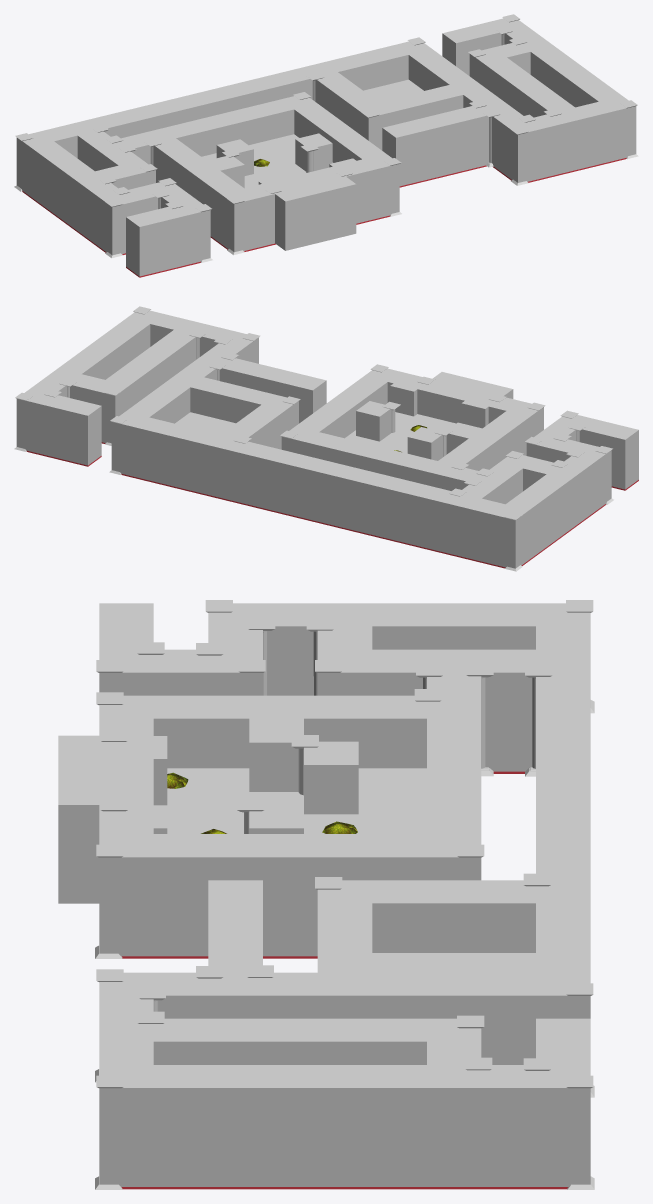
The model's file is montage_map.fbx.
3 renders of one model, top to bottom at view 1: azimuth 30°, elevation 25°; view 2: azimuth 150°, elevation 25°; view 3: azimuth 270°, elevation 25°, orthographic. The views are drawn at different scales.
Visible parts, largest first — view 1: dead_end.001|box.011_L_map_asset.blend.001|Dupli|1, top_corner.005|box.003_L_map_asset.blend.001|Dupli|, dead_end.002|box.011_L_map_asset.blend.001|Dupli|1, dead_end.004|box.011_L_map_asset.blend.001|Dupli|1, wall.218|box_L_map_asset.blend.001|Dupli|, outer_corner_top.009|box.010_L_map_asset.blend.001|Dupli|, top_corner.009|box.003_L_map_asset.blend.001|Dupli|, outer_corner_top.018|box.010_L_map_asset.blend.001|Dupli|, dead_end|box.011_L_map_asset.blend.001|Dupli|1, wall.174|box_L_map_asset.blend.001|Dupli|, outer_corner_top.004|box.010_L_map_asset.blend.001|Dupli|, wall.172|box_L_map_asset.blend.001|Dupli| (+99 smaller); view 2: dead_end.004|box.011_L_map_asset.blend.001|Dupli|1, outer_corner_top.018|box.010_L_map_asset.blend.001|Dupli|, top_corner.003|box.003_L_map_asset.blend.001|Dupli|, dead_end.001|box.011_L_map_asset.blend.001|Dupli|1, dead_end.002|box.011_L_map_asset.blend.001|Dupli|1, top_corner.010|box.003_L_map_asset.blend.001|Dupli|, outer_corner_top.016|box.010_L_map_asset.blend.001|Dupli|, dead_end.005|box.011_L_map_asset.blend.001|Dupli|1, wall.210|box_L_map_asset.blend.001|Dupli|, wall.153|box_L_map_asset.blend.001|Dupli|, wall.161|box_L_map_asset.blend.001|Dupli|, wall.155|box_L_map_asset.blend.001|Dupli| (+106 smaller); view 3: wall.147|box_L_map_asset.blend.001|Dupli|, wall.143|box_L_map_asset.blend.001|Dupli|, wall.037|box_L_map_asset.blend.001|Dupli|, wall.049|box_L_map_asset.blend.001|Dupli|, wall.144|box_L_map_asset.blend.001|Dupli|, wall.145|box_L_map_asset.blend.001|Dupli|, wall.028|box_L_map_asset.blend.001|Dupli|, outer_corner_top.016|box.010_L_map_asset.blend.001|Dupli|, wall.139|box_L_map_asset.blend.001|Dupli|, wall.052|box_L_map_asset.blend.001|Dupli|, wall.146|box_L_map_asset.blend.001|Dupli|, wall.123|box_L_map_asset.blend.001|Dupli| (+154 smaller).
Part boxes in pixels (left/top/right/bottom): dead_end.001|box.011_L_map_asset.blend.001|Dupli|1: left=126, top=211, right=163, bottom=251; top_corner.005|box.003_L_map_asset.blend.001|Dupli|: left=220, top=188, right=257, bottom=228; dead_end.002|box.011_L_map_asset.blend.001|Dupli|1: left=382, top=122, right=419, bottom=161; dead_end.004|box.011_L_map_asset.blend.001|Dupli|1: left=442, top=28, right=479, bottom=67; wall.218|box_L_map_asset.blend.001|Dupli|: left=275, top=188, right=308, bottom=225; outer_corner_top.009|box.010_L_map_asset.blend.001|Dupli|: left=98, top=193, right=135, bottom=231; top_corner.009|box.003_L_map_asset.blend.001|Dupli|: left=355, top=102, right=392, bottom=141; outer_corner_top.018|box.010_L_map_asset.blend.001|Dupli|: left=295, top=133, right=332, bottom=171; dead_end|box.011_L_map_asset.blend.001|Dupli|1: left=126, top=242, right=163, bottom=276; wall.174|box_L_map_asset.blend.001|Dupli|: left=257, top=99, right=294, bottom=139; outer_corner_top.004|box.010_L_map_asset.blend.001|Dupli|: left=504, top=121, right=541, bottom=159; wall.172|box_L_map_asset.blend.001|Dupli|: left=234, top=105, right=270, bottom=145; dead_end.004|box.011_L_map_asset.blend.001|Dupli|1: left=64, top=400, right=101, bottom=440; outer_corner_top.018|box.010_L_map_asset.blend.001|Dupli|: left=356, top=401, right=391, bottom=441; top_corner.003|box.003_L_map_asset.blend.001|Dupli|: left=492, top=504, right=529, bottom=544; dead_end.001|box.011_L_map_asset.blend.001|Dupli|1: left=601, top=424, right=638, bottom=464; dead_end.002|box.011_L_map_asset.blend.001|Dupli|1: left=289, top=375, right=326, bottom=414; top_corner.010|box.003_L_map_asset.blend.001|Dupli|: left=91, top=380, right=129, bottom=419; outer_corner_top.016|box.010_L_map_asset.blend.001|Dupli|: left=407, top=427, right=443, bottom=460; dead_end.005|box.011_L_map_asset.blend.001|Dupli|1: left=64, top=431, right=101, bottom=465; wall.210|box_L_map_asset.blend.001|Dupli|: left=190, top=377, right=227, bottom=417; wall.153|box_L_map_asset.blend.001|Dupli|: left=135, top=417, right=172, bottom=457; wall.161|box_L_map_asset.blend.001|Dupli|: left=325, top=464, right=362, bottom=504; wall.155|box_L_map_asset.blend.001|Dupli|: left=183, top=429, right=220, bottom=469; wall.147|box_L_map_asset.blend.001|Dupli|: left=317, top=1065, right=372, bottom=1137; wall.143|box_L_map_asset.blend.001|Dupli|: left=153, top=1065, right=208, bottom=1137; wall.037|box_L_map_asset.blend.001|Dupli|: left=372, top=880, right=426, bottom=952; wall.049|box_L_map_asset.blend.001|Dupli|: left=427, top=880, right=481, bottom=952; wall.144|box_L_map_asset.blend.001|Dupli|: left=263, top=1065, right=317, bottom=1137; wall.145|box_L_map_asset.blend.001|Dupli|: left=208, top=1065, right=262, bottom=1137; wall.028|box_L_map_asset.blend.001|Dupli|: left=372, top=695, right=426, bottom=768; outer_corner_top.016|box.010_L_map_asset.blend.001|Dupli|: left=304, top=741, right=358, bottom=814; wall.139|box_L_map_asset.blend.001|Dupli|: left=481, top=972, right=535, bottom=1044; wall.052|box_L_map_asset.blend.001|Dupli|: left=481, top=880, right=535, bottom=952; wall.146|box_L_map_asset.blend.001|Dupli|: left=372, top=1065, right=426, bottom=1137; wall.123|box_L_map_asset.blend.001|Dupli|: left=153, top=834, right=208, bottom=906.
Size of the model in its own units: 8460 by 837 by 3930.
